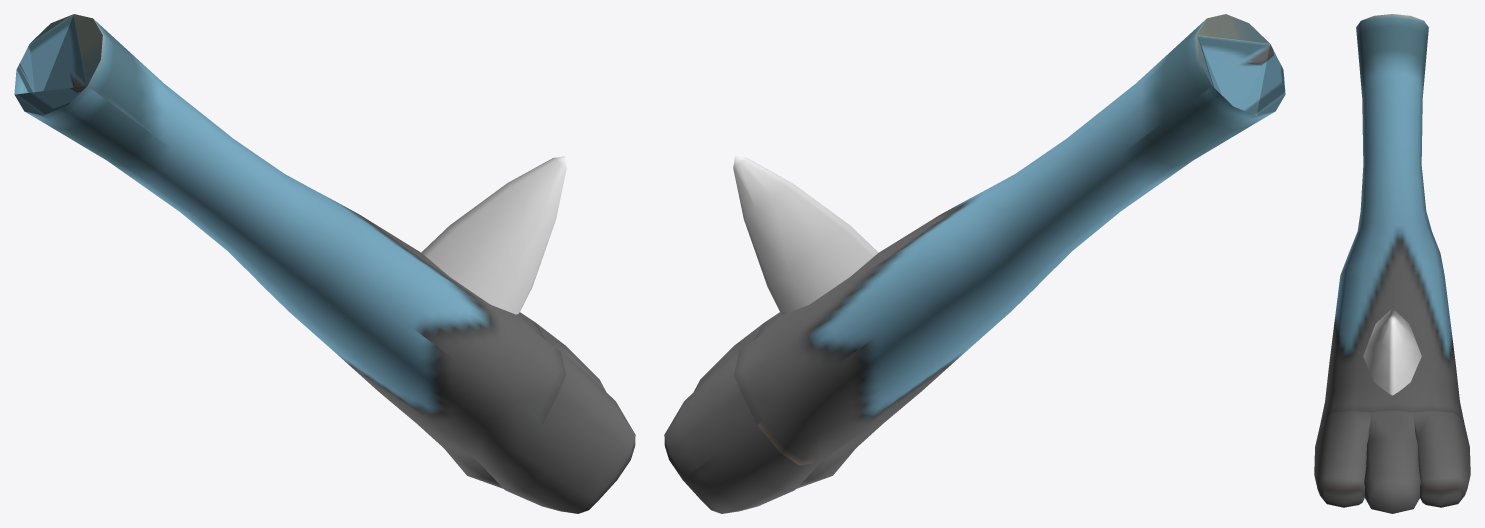
The model's file is LucarioBraIzq.obj.
3 views of the same model, side by side, from view 1: azimuth 30°, elevation 25°; view 2: azimuth 150°, elevation 25°; view 3: azimuth 270°, elevation 25° (orthographic). The views are drawn at different scales.
Visible parts, largest first — view 1: BrazoIzq001; view 2: BrazoIzq001; view 3: BrazoIzq001.
Part boxes in pixels (x1,y1,x2,y2): BrazoIzq001: (14, 14, 635, 513); BrazoIzq001: (664, 14, 1285, 513); BrazoIzq001: (1314, 14, 1470, 513).
Bounding box in the file's own units: 2.24 × 2.13 × 0.8289.
